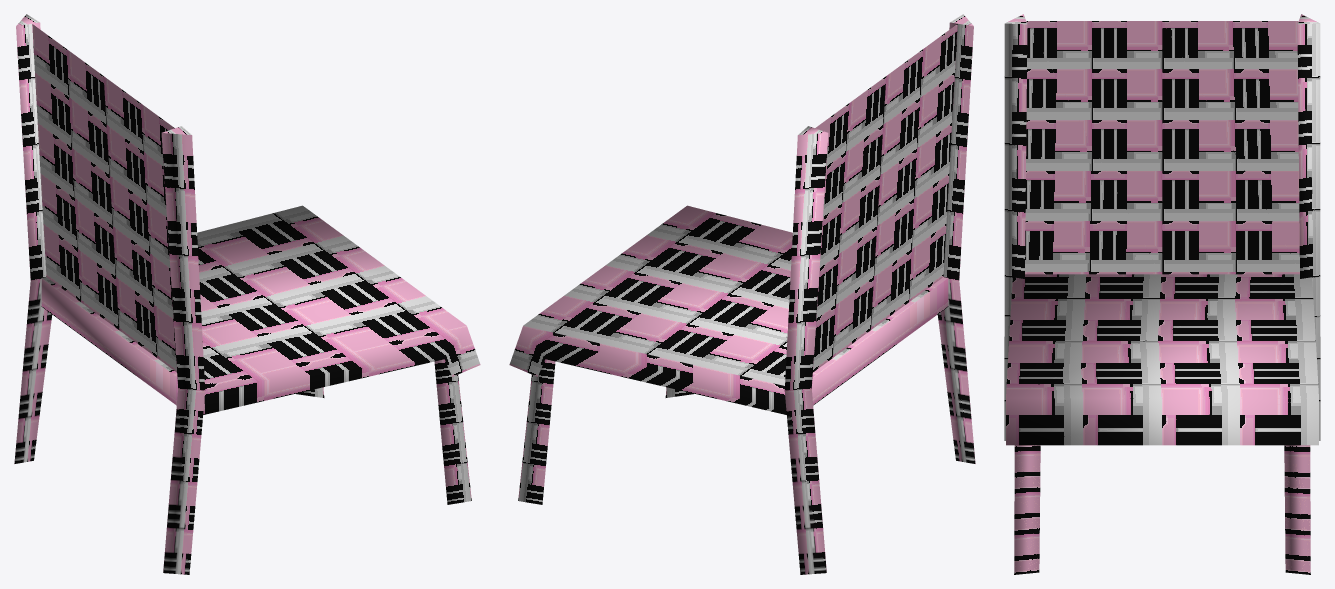
The model's file is 3587kg_28_isu.gltf.
3 views of the same model, side by side, from view 1: azimuth 30°, elevation 25°; view 2: azimuth 150°, elevation 25°; view 3: azimuth 270°, elevation 25° (orthographic). The views are drawn at different scales.
Visible parts, largest first — view 1: 3587kg_28_isu; view 2: 3587kg_28_isu; view 3: 3587kg_28_isu.
Part boxes in pixels (bbox=[...]): 3587kg_28_isu: bbox=[14, 14, 480, 574]; 3587kg_28_isu: bbox=[509, 14, 975, 574]; 3587kg_28_isu: bbox=[1004, 14, 1320, 574].
Size of the model in its own units: 0.7886 by 1.07 by 0.7314.
Materials: 1 (1 with a texture image).
